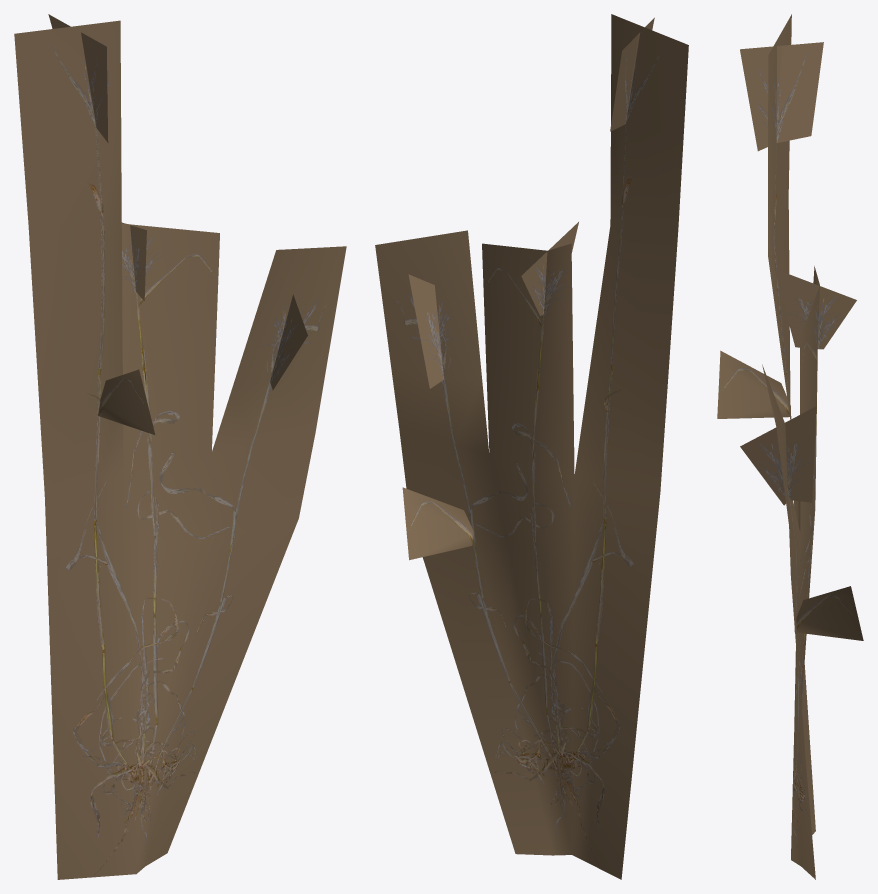
File: sm_DryPlant_01_01.fbx
The picture shows the model from 3 angles, left to right: view 1: azimuth 30°, elevation 25°; view 2: azimuth 150°, elevation 25°; view 3: azimuth 270°, elevation 25°; orthographic projection. The views are drawn at different scales.
Visible parts, largest first — view 1: sm_DryPlant_01_01_LOD0; view 2: sm_DryPlant_01_01_LOD0; view 3: sm_DryPlant_01_01_LOD0.
Boxes of the visible parts, <box> form: sm_DryPlant_01_01_LOD0: <box>14,14,346,879</box>; sm_DryPlant_01_01_LOD0: <box>375,14,688,879</box>; sm_DryPlant_01_01_LOD0: <box>717,14,863,879</box>.
Size of the model in its own units: 59.62 by 25.26 by 151.
